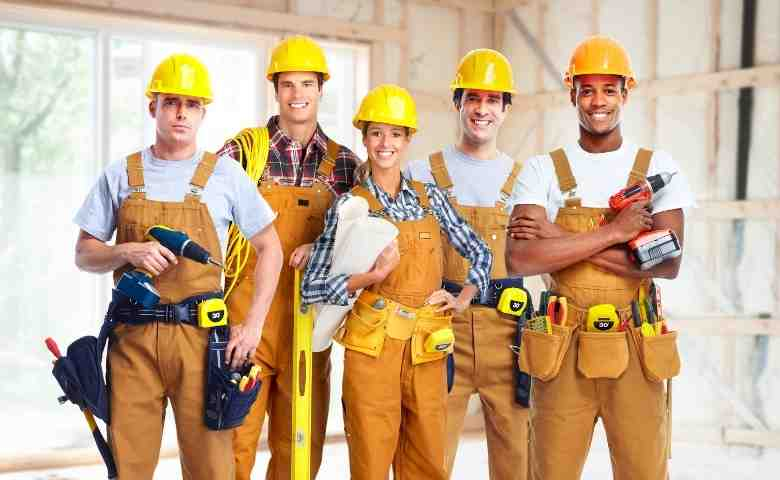cap: (256, 24, 340, 92), (139, 50, 231, 112), (559, 35, 643, 95), (444, 42, 522, 106), (353, 76, 429, 141)
